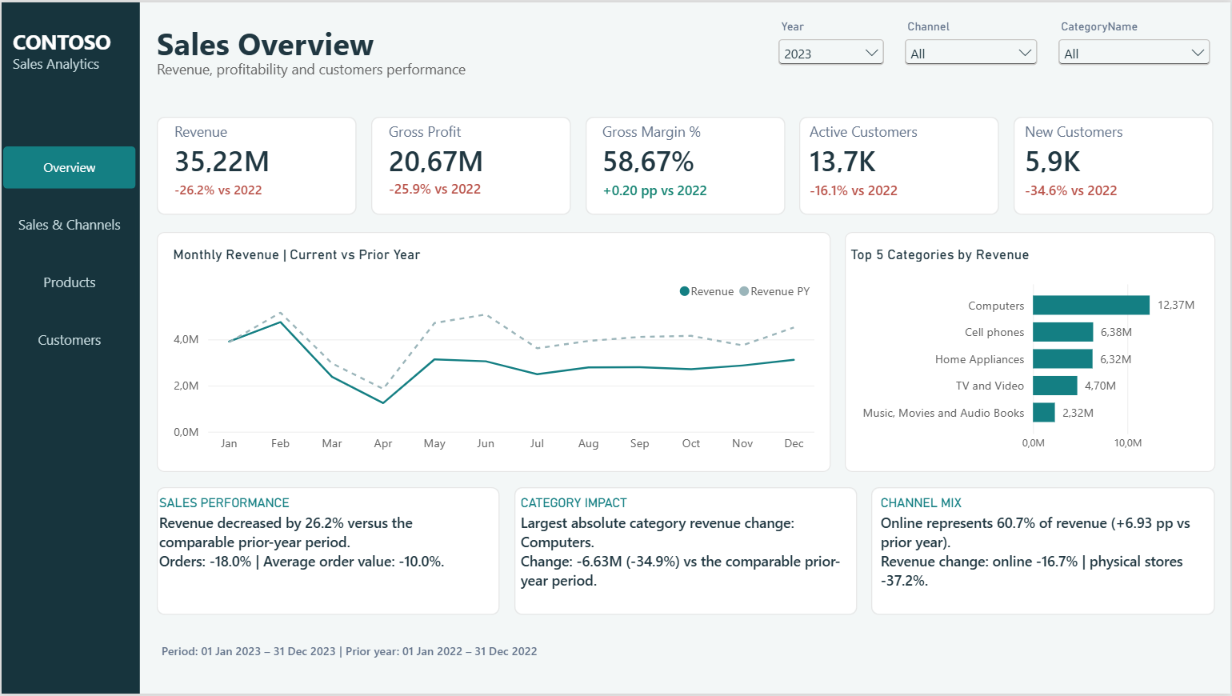

This screenshot's page, from the dashboard's own definition file:
{"tool":"powerbi","page":{"name":"Overview","canvas":[1280,720],"ordinal":1},"visuals":[{"type":"shape","box":[0,0,144,720],"z":0},{"type":"textbox","box":[12,26,120,64],"z":1000},{"type":"textbox","box":[162,20,600,45],"z":2000},{"type":"slicer","fields":{"Values":["Date.Year"]},"box":[804,18,120,56],"z":3000},{"type":"shape","box":[162,119,208,102],"z":4000},{"type":"shape","box":[385,119,208,102],"z":5000},{"type":"shape","box":[608,119,208,102],"z":6000},{"type":"shape","box":[831,119,208,102],"z":7000},{"type":"shape","box":[1054,119,208,102],"z":8000},{"type":"cardVisual","fields":{"Data":["_Measures.Revenue"]},"box":[170,125,192,90],"z":9000},{"type":"cardVisual","fields":{"Data":["_Measures.Gross Profit"]},"box":[393,125,192,90],"z":10000},{"type":"cardVisual","fields":{"Data":["_Measures.Gross Margin %"]},"box":[616,125,192,90],"z":11000},{"type":"cardVisual","fields":{"Data":["_Measures.Active Customers"]},"box":[832,125,192,90],"z":12000},{"type":"cardVisual","fields":{"Data":["_Measures.New Customers"]},"box":[1056,125,192,90],"z":13000},{"type":"lineChart","title":"Monthly Revenue | Current vs Prior Year","fields":{"Category":["Date.MonthShort"],"Y":["_Measures.Revenue","_Measures.Revenue PY"]},"box":[162,239,702,250],"z":14000},{"type":"clusteredBarChart","title":"Top 5 Categories by Revenue","fields":{"Category":["Product.CategoryName"],"Y":["_Measures.Revenue"]},"box":[878,239,386,250],"z":15000},{"type":"shape","box":[162,505,357,133],"z":16000},{"type":"shape","box":[534,505,357,133],"z":17000},{"type":"shape","box":[906,505,358,133],"z":18000},{"type":"cardVisual","title":"SALES PERFORMANCE","fields":{"Data":["_Measures.Insight Revenue"]},"box":[160,504,352,136],"z":19000},{"type":"cardVisual","title":"CATEGORY IMPACT","fields":{"Data":["_Measures.Insight Category"]},"box":[537,504,344,136],"z":20000},{"type":"cardVisual","title":"CHANNEL MIX","fields":{"Data":["_Measures.Insight Online"]},"box":[912,504,344,136],"z":21000},{"type":"cardVisual","fields":{"Data":["_Measures.Report Period Label"]},"box":[162,665,1102,20],"z":22000},{"type":"pageNavigator","box":[2,150,138,224],"z":23000},{"type":"slicer","fields":{"Values":["Store.Channel"]},"box":[936,18,148,56],"z":24000},{"type":"slicer","fields":{"Values":["Product.CategoryName"]},"box":[1096,18,168,56],"z":25000},{"type":"textbox","box":[162,59,600,20],"z":25001}]}

Visuals, with their boxes on the page's 1280x720 design canvas (x1, y1, x2, y2). These are canvas units, not pixel positions in the 1232x696 screenshot, which may show the page scaled, cropped or inside an application window:
shape: region(0, 0, 144, 720)
textbox: region(12, 26, 132, 90)
textbox: region(162, 20, 762, 65)
slicer - Date.Year: region(804, 18, 924, 74)
shape: region(162, 119, 370, 221)
shape: region(385, 119, 593, 221)
shape: region(608, 119, 816, 221)
shape: region(831, 119, 1039, 221)
shape: region(1054, 119, 1262, 221)
cardVisual - _Measures.Revenue: region(170, 125, 362, 215)
cardVisual - _Measures.Gross Profit: region(393, 125, 585, 215)
cardVisual - _Measures.Gross Margin %: region(616, 125, 808, 215)
cardVisual - _Measures.Active Customers: region(832, 125, 1024, 215)
cardVisual - _Measures.New Customers: region(1056, 125, 1248, 215)
"Monthly Revenue | Current vs Prior Year" lineChart: region(162, 239, 864, 489)
"Top 5 Categories by Revenue" clusteredBarChart: region(878, 239, 1264, 489)
shape: region(162, 505, 519, 638)
shape: region(534, 505, 891, 638)
shape: region(906, 505, 1264, 638)
"SALES PERFORMANCE" cardVisual: region(160, 504, 512, 640)
"CATEGORY IMPACT" cardVisual: region(537, 504, 881, 640)
"CHANNEL MIX" cardVisual: region(912, 504, 1256, 640)
cardVisual - _Measures.Report Period Label: region(162, 665, 1264, 685)
pageNavigator: region(2, 150, 140, 374)
slicer - Store.Channel: region(936, 18, 1084, 74)
slicer - Product.CategoryName: region(1096, 18, 1264, 74)
textbox: region(162, 59, 762, 79)
